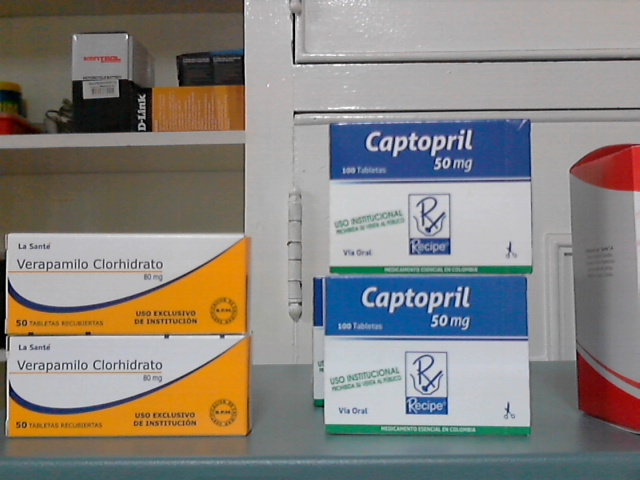LaSante: (7, 235, 246, 334), (9, 337, 247, 434)
